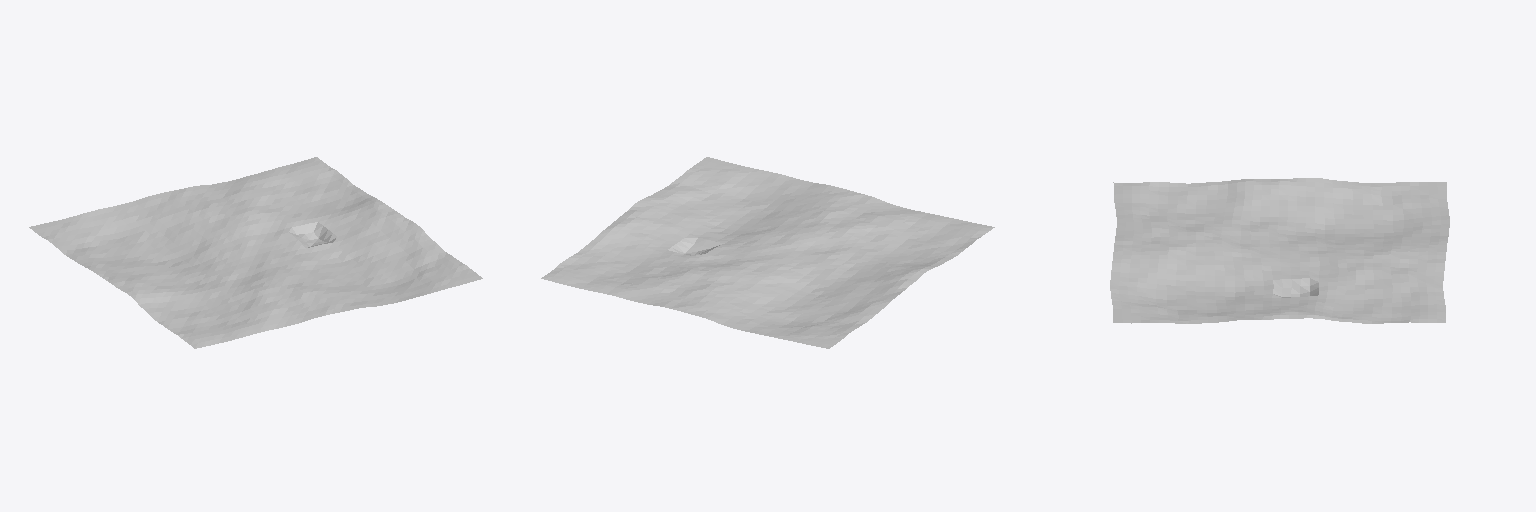
File: terrain.obj
The picture shows the model from 3 angles: view 1: azimuth 30°, elevation 25°; view 2: azimuth 150°, elevation 25°; view 3: azimuth 270°, elevation 25°; orthographic projection.
Visible parts, largest first — view 1: Plane; view 2: Plane; view 3: Plane.
Part boxes in pixels (x1,y1,x2,y2): Plane: (29, 157, 482, 348); Plane: (541, 157, 994, 348); Plane: (1110, 178, 1449, 323).
Bounding box in the file's own units: 194 × 10.16 × 195.